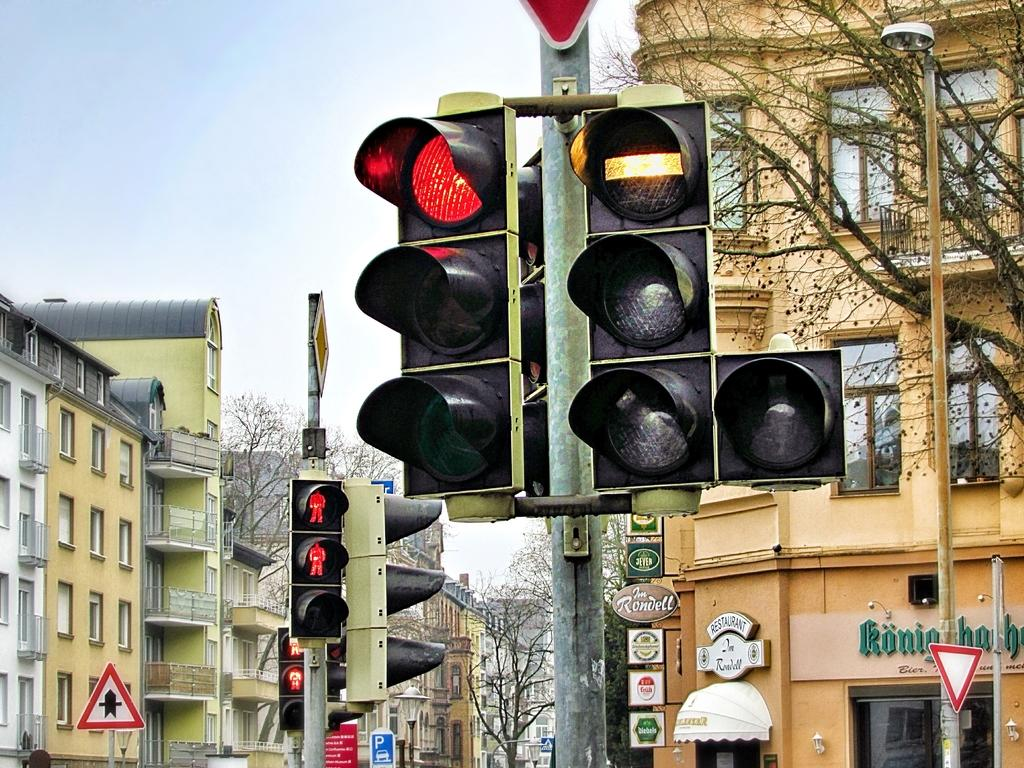red_light: (353, 106, 524, 499)
